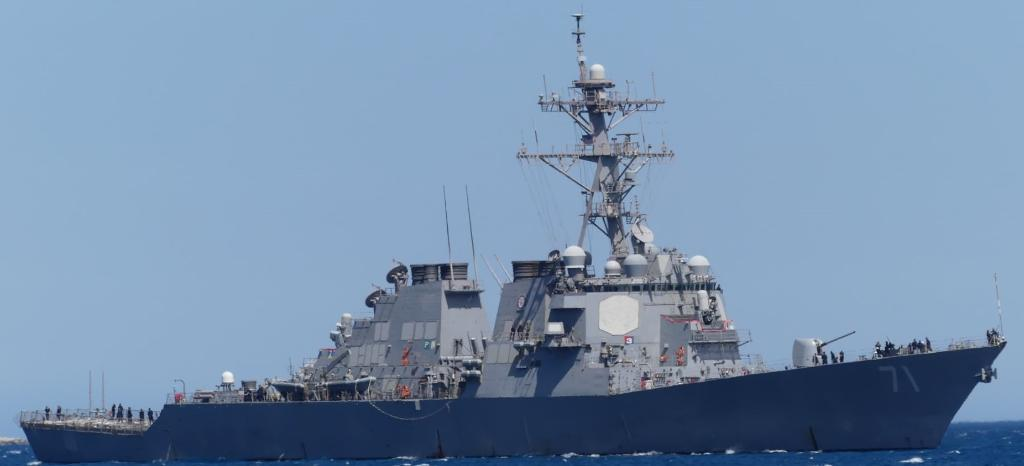Warship: (17, 7, 1011, 458)
